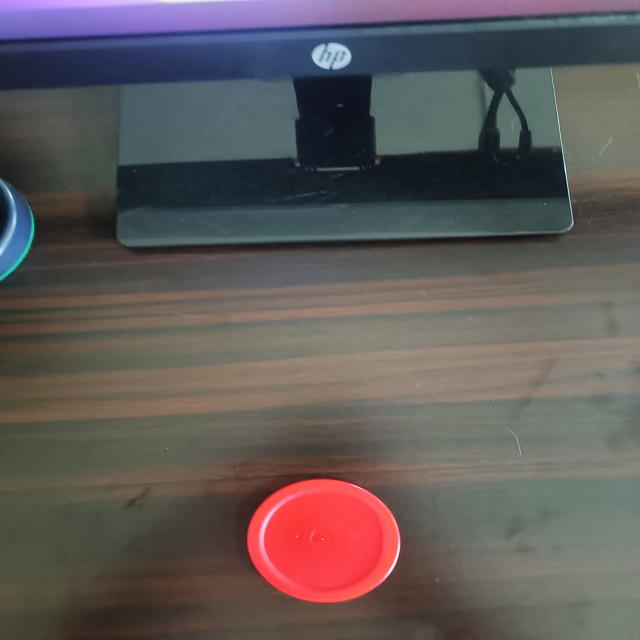chip: (246, 476, 404, 602)
